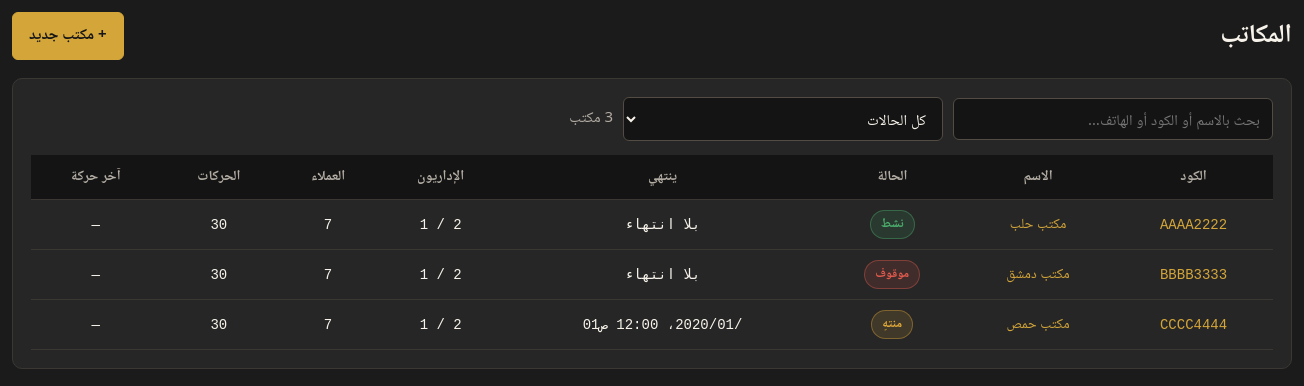
Test: offices page › lists offices with effective status and filters by search/status
This screenshot has width=1304, height=386.
Check: the number of rows is 4, box top-left (31, 155), bottom-right (1273, 200); top-left (31, 200), bottom-right (1273, 250); top-left (31, 250), bottom-right (1273, 300); top-left (31, 300), bottom-right (1273, 350)
Check: the text "نشط" is shown, box top-left (870, 210), bottom-right (915, 239)
Select "موقوف" in the dropdown named "الحالة" at (783, 119), box top-left (623, 97), bottom-right (943, 141)
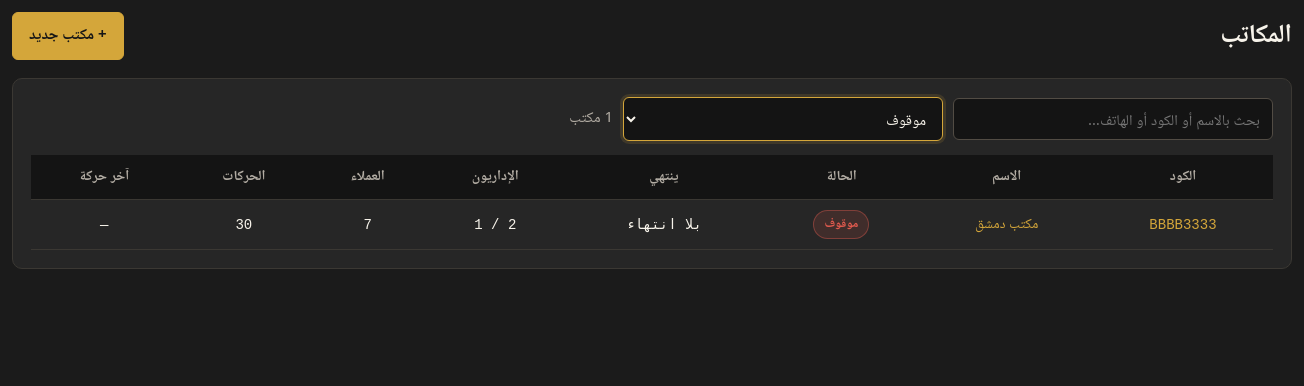
Check: the number of rows is 2, box top-left (31, 155), bottom-right (1273, 200); top-left (31, 200), bottom-right (1273, 250)
Select "كل الحالات" in the dropdown named "الحالة" at (783, 119), box top-left (623, 97), bottom-right (943, 141)
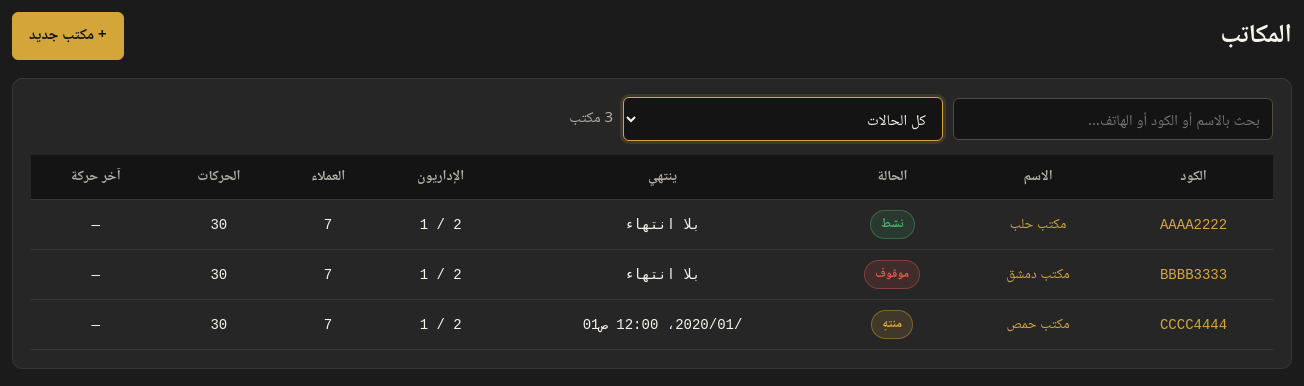
Type "cccc" into the field labelled "بحث" at (1113, 119), box top-left (953, 98), bottom-right (1273, 140)
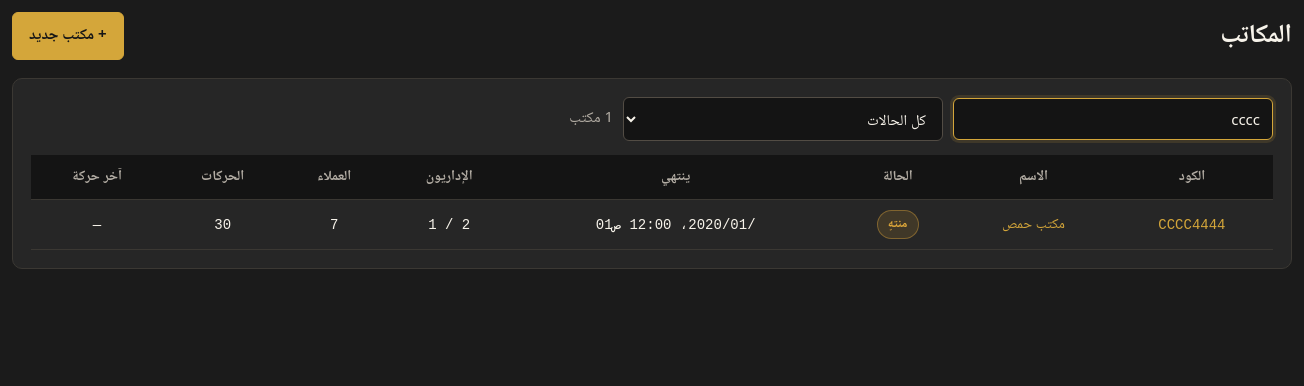
Check: the link "مكتب حمص" is shown, box top-left (1002, 212), bottom-right (1065, 232)
Check: the number of rows is 2, box top-left (31, 155), bottom-right (1273, 200); top-left (31, 200), bottom-right (1273, 250)
